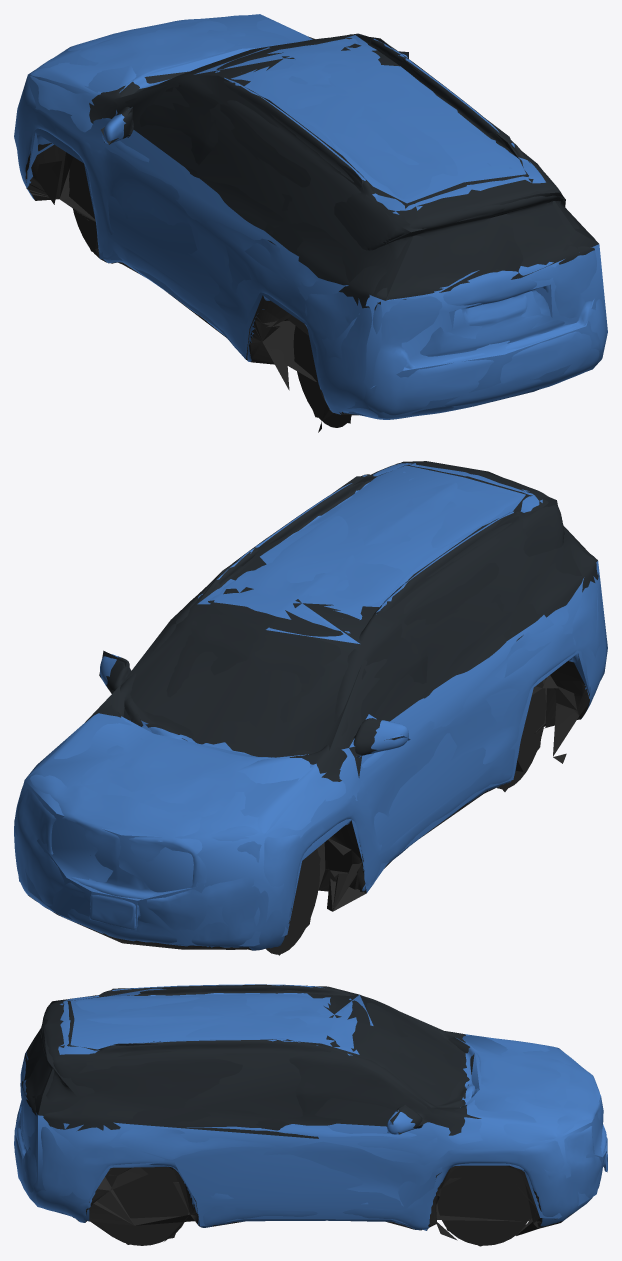
The model's file is gmc-terrain.glb.
3 renders of one model, top to bottom at view 1: azimuth 30°, elevation 25°; view 2: azimuth 150°, elevation 25°; view 3: azimuth 270°, elevation 25°, orthographic. The views are drawn at different scales.
Visible parts, largest first — view 1: body, far; view 2: body, far; view 3: body, far.
Part boxes in pixels (<box>): body: <box>16,15,605,432</box>; far: <box>14,14,607,423</box>; body: <box>14,461,606,954</box>; far: <box>14,461,607,955</box>; body: <box>14,984,607,1245</box>; far: <box>14,984,607,1246</box>.
Bounding box in the file's own units: 2.1 × 1.73 × 4.65.
